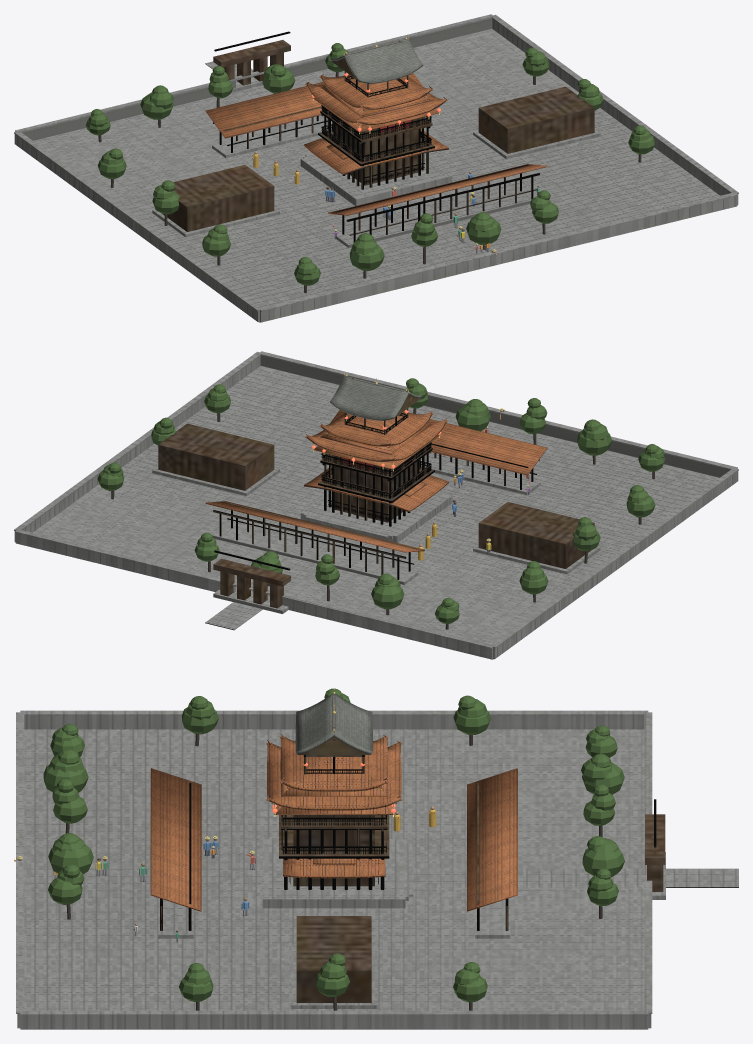
Rendered from nlt-agent-model.glb.
The picture shows the model from 3 angles, top to bottom: view 1: azimuth 30°, elevation 25°; view 2: azimuth 150°, elevation 25°; view 3: azimuth 270°, elevation 25°; orthographic projection. The views are drawn at different scales.
Visible parts, largest first — view 1: Stone_Platform, Column_Ground_0_0, Roof_Tier1, Tree_N0_Foliage_0, Roof_Tier3_Gable, WindBell_T1_-1_-1_String; view 2: Stone_Platform, Column_Ground_0_0, Roof_Tier1, Tree_N0_Foliage_0, Roof_Tier3_Gable; view 3: Stone_Platform, Roof_Tier1, Tree_N0_Foliage_0, Column_Ground_0_0, Roof_Tier3_Gable.
Boxes of the visible parts, x1,y1,x2,y2 form: Stone_Platform: (14,14,738,322); Column_Ground_0_0: (162,31,594,242); Roof_Tier1: (205,73,547,215); Tree_N0_Foliage_0: (86,43,654,285); Roof_Tier3_Gable: (330,38,422,83); WindBell_T1_-1_-1_String: (98,40,641,293); Stone_Platform: (14,351,738,659); Column_Ground_0_0: (158,395,594,608); Roof_Tier1: (205,410,547,552); Tree_N0_Foliage_0: (97,378,664,623); Roof_Tier3_Gable: (330,375,422,420); Stone_Platform: (16,710,738,1029); Roof_Tier1: (150,734,517,911); Tree_N0_Foliage_0: (43,688,624,1002); Column_Ground_0_0: (160,736,665,1002); Roof_Tier3_Gable: (295,693,372,754).
Bounding box in the file's own units: 52.6 × 14.07 × 53.09.
32 materials, 4 textured.
